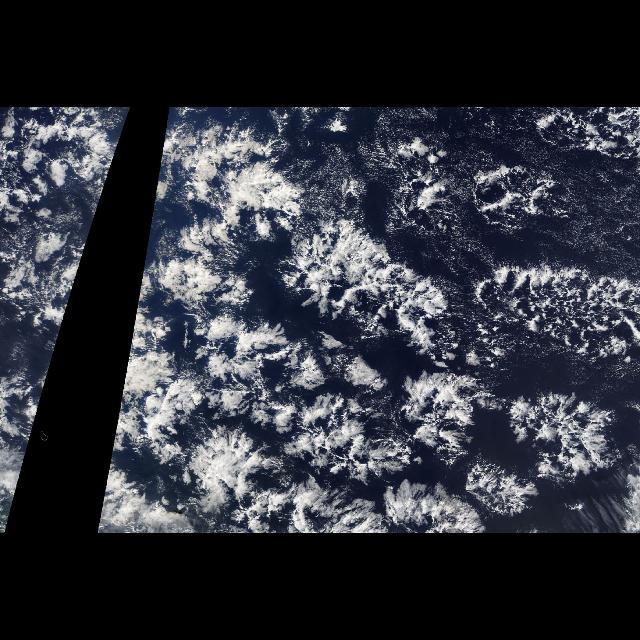Fish: (155, 131, 640, 533)
Flower: (128, 209, 622, 533)
Sugar: (325, 110, 637, 268)
